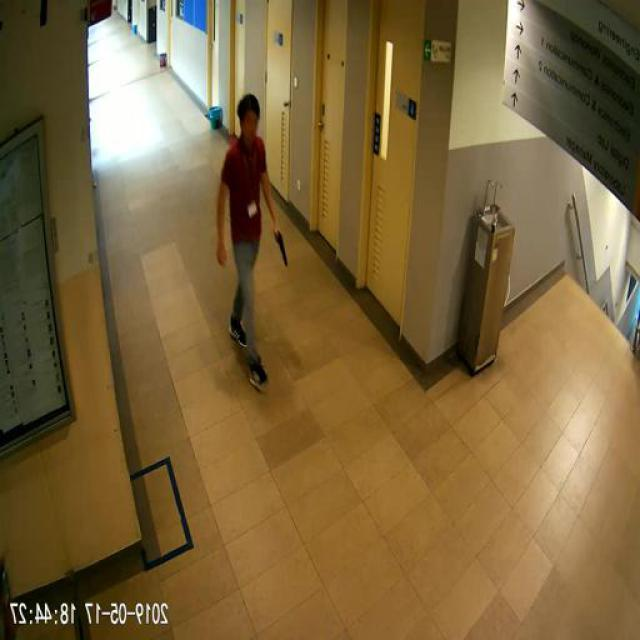Gun: (275, 226, 289, 265)
